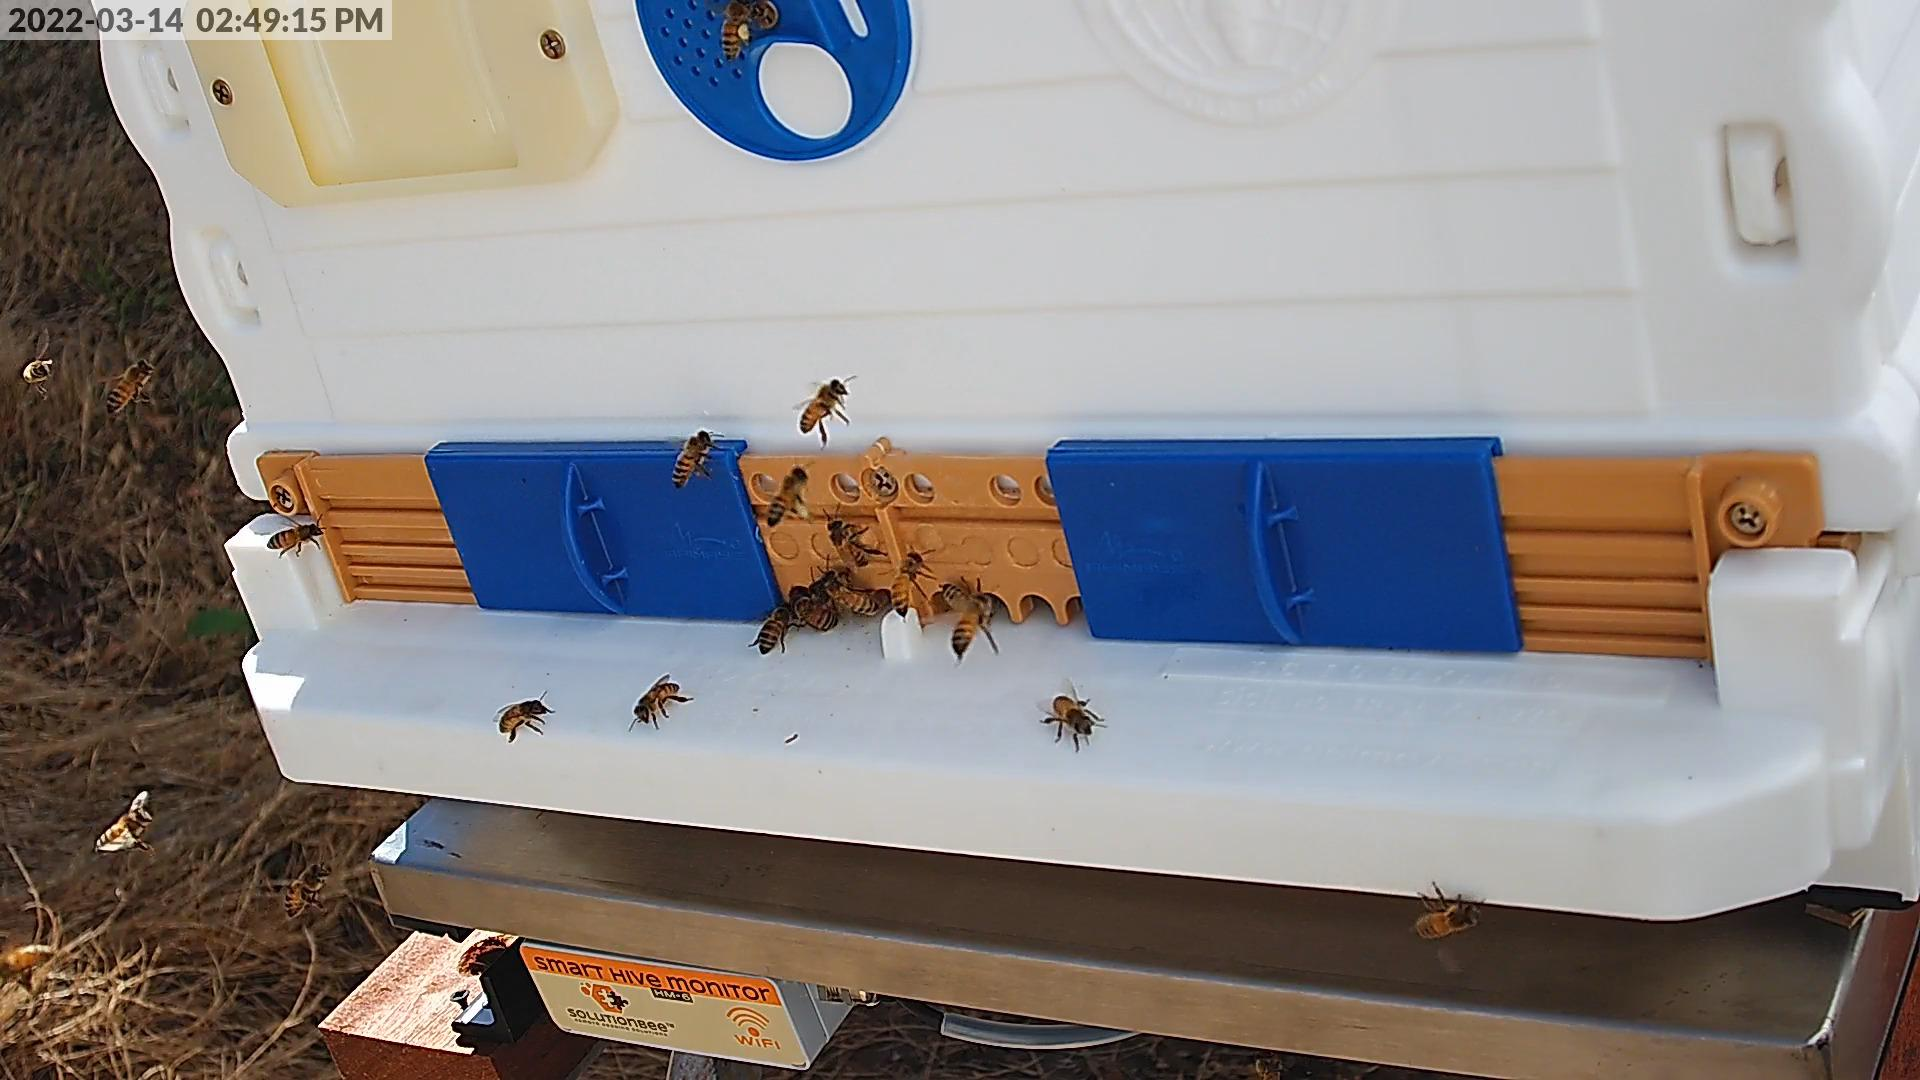bee: (823, 568, 881, 615), (285, 858, 328, 915), (0, 943, 57, 986), (96, 807, 149, 852), (800, 380, 845, 430), (108, 361, 152, 413), (952, 595, 988, 657), (1412, 903, 1474, 939), (891, 551, 924, 615), (675, 430, 711, 488), (828, 520, 869, 566), (632, 683, 682, 720), (940, 584, 989, 621), (795, 591, 837, 630), (497, 700, 545, 735), (758, 604, 791, 653), (269, 522, 324, 551), (1051, 698, 1093, 733), (24, 360, 46, 384)
pollenbee: (764, 469, 810, 527), (721, 0, 750, 58)
